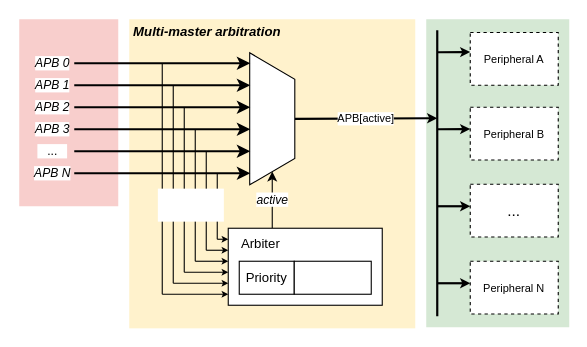
Image size: 587x347. Some labels were removed from this diagram. Each missing label, with the centre of its shape:
"Last Active" belongs at point (332, 277).
"Master Ports" belongs at point (68, 112).
"PSEL" belongs at point (190, 204).
